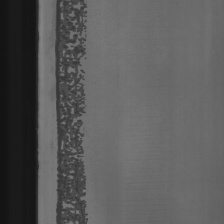water_spot: (51, 3, 96, 224)
